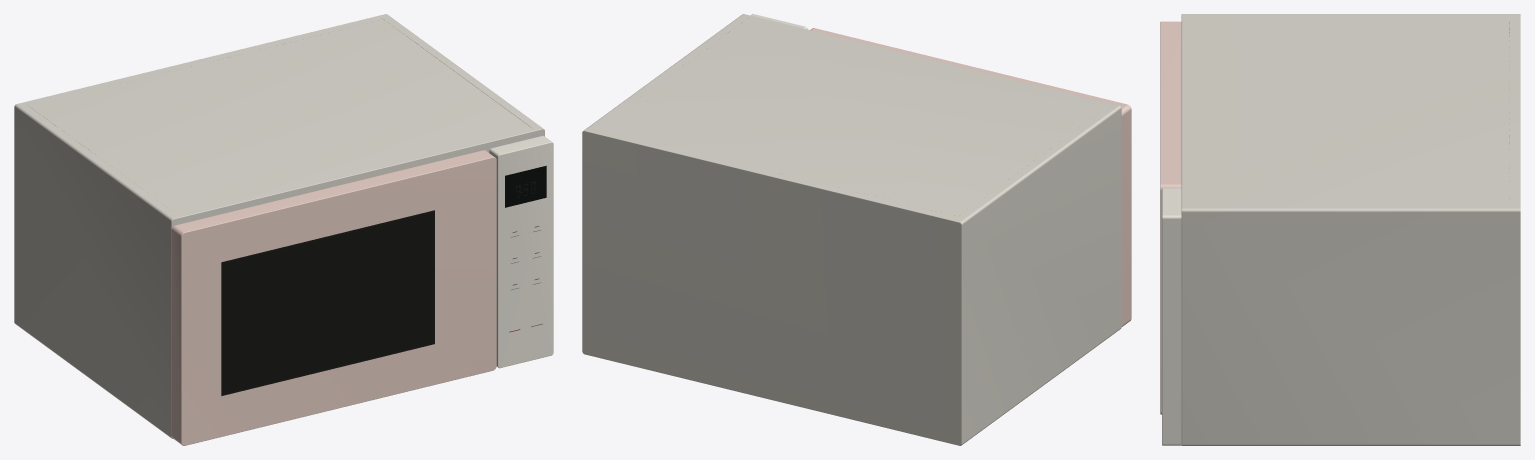
The model's file is MWJ23PI.glb.
3 renders of one model, left to right at view 1: azimuth 30°, elevation 25°; view 2: azimuth 150°, elevation 25°; view 3: azimuth 270°, elevation 25°, orthographic. The views are drawn at different scales.
Parts seen in each view (by area): view 1: BodyShell, DoorBody, WindowMesh, ControlPanel, WindowRim, ControlDisplay; view 2: BodyShell, DoorBody; view 3: BodyShell, ControlPanel, DoorBody.
Boxes of the visible parts, box(x1,y1,x2,y2) form: BodyShell: box(14, 14, 544, 438); DoorBody: box(171, 150, 496, 445); WindowMesh: box(223, 212, 433, 393); ControlPanel: box(489, 135, 553, 368); WindowRim: box(221, 210, 434, 395); ControlDisplay: box(505, 165, 546, 207); BodyShell: box(582, 14, 1121, 445); DoorBody: box(810, 28, 1131, 326); BodyShell: box(1181, 14, 1520, 445); ControlPanel: box(1162, 188, 1181, 445); DoorBody: box(1160, 21, 1181, 414).
Bounding box in the file's own units: 0.476 × 0.272 × 0.369.
11 materials, 1 textured.
